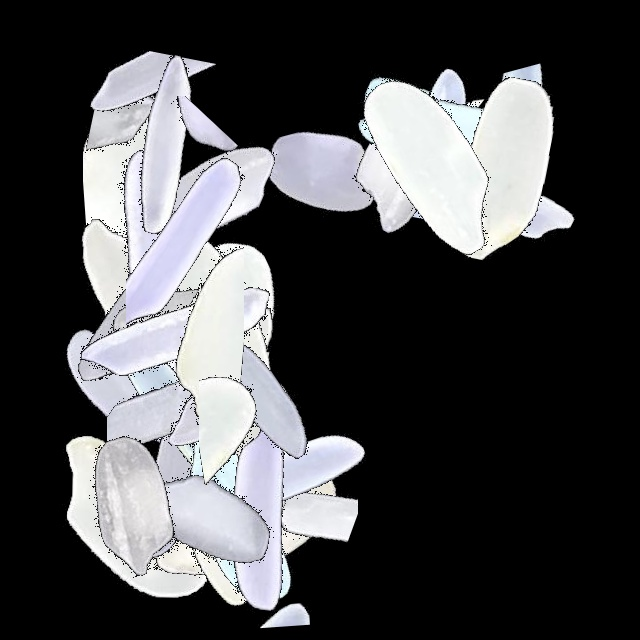Broken: (345, 7, 518, 257), (437, 32, 609, 282), (126, 142, 294, 392), (129, 128, 379, 289), (107, 317, 266, 567), (83, 53, 240, 303), (208, 372, 358, 622), (111, 174, 260, 424), (80, 0, 224, 250), (34, 239, 284, 382), (105, 213, 244, 463), (50, 331, 300, 466), (111, 150, 240, 400), (29, 69, 279, 196), (0, 227, 250, 352), (262, 70, 512, 187), (199, 317, 304, 567), (39, 96, 289, 199), (107, 539, 357, 630), (450, 0, 536, 250)
Full: (327, 2, 577, 252), (103, 216, 353, 466), (74, 355, 324, 605), (17, 188, 267, 438), (13, 390, 263, 640), (120, 390, 370, 640), (67, 233, 317, 483), (92, 390, 342, 640), (68, 388, 318, 638), (0, 260, 250, 510), (195, 49, 445, 299), (349, 68, 599, 318), (0, 199, 250, 449), (276, 40, 526, 290), (41, 366, 291, 616), (323, 11, 573, 261), (63, 298, 313, 548), (19, 113, 269, 363), (120, 346, 370, 596), (153, 351, 403, 601), (381, 46, 631, 296), (87, 195, 337, 445), (109, 390, 359, 640), (134, 390, 384, 640), (82, 390, 332, 640), (41, 21, 291, 271), (135, 272, 385, 522), (51, 207, 301, 457), (7, 378, 257, 628), (309, 37, 559, 287)
